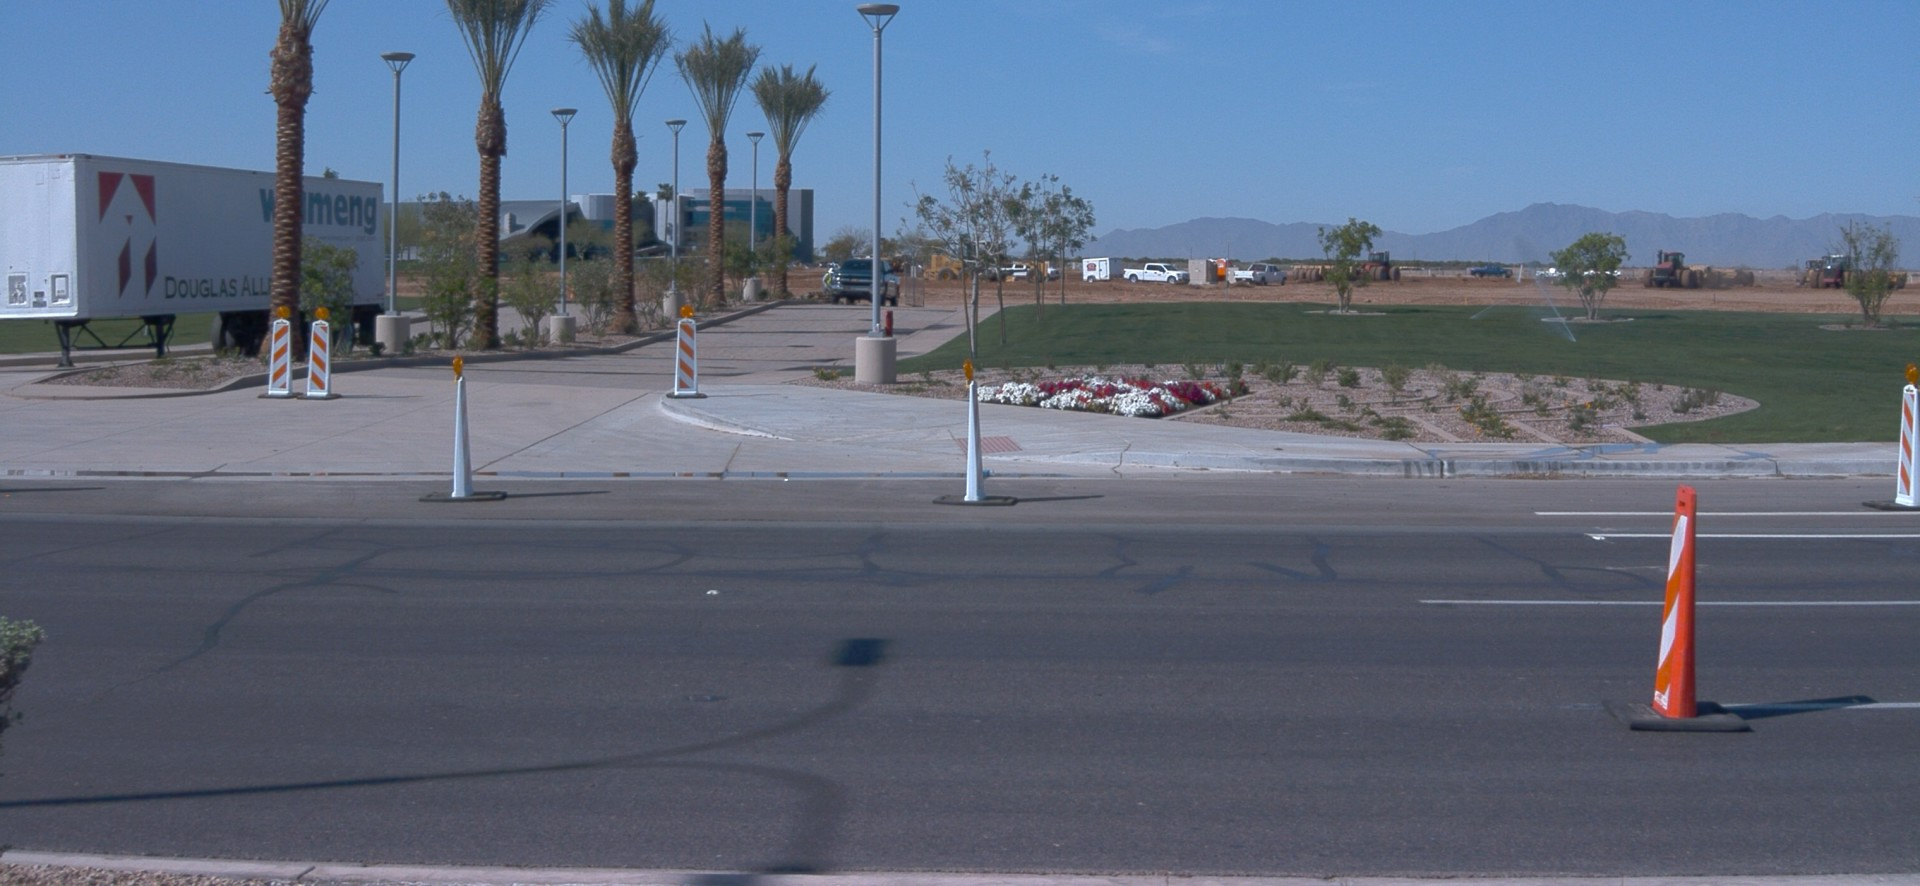TYPE_PEDESTRIAN: (821, 267, 837, 291)
TYPE_VEHICLE: (0, 150, 390, 367), (923, 233, 1044, 283), (819, 251, 897, 310), (1806, 249, 1876, 289), (1642, 249, 1707, 288), (1350, 247, 1401, 281), (1121, 261, 1190, 285), (993, 259, 1059, 279), (1231, 268, 1287, 289), (1797, 255, 1830, 288), (1291, 264, 1355, 280), (1082, 258, 1129, 279), (881, 254, 916, 274), (1467, 262, 1514, 276), (1580, 266, 1621, 277), (1533, 266, 1566, 277)
